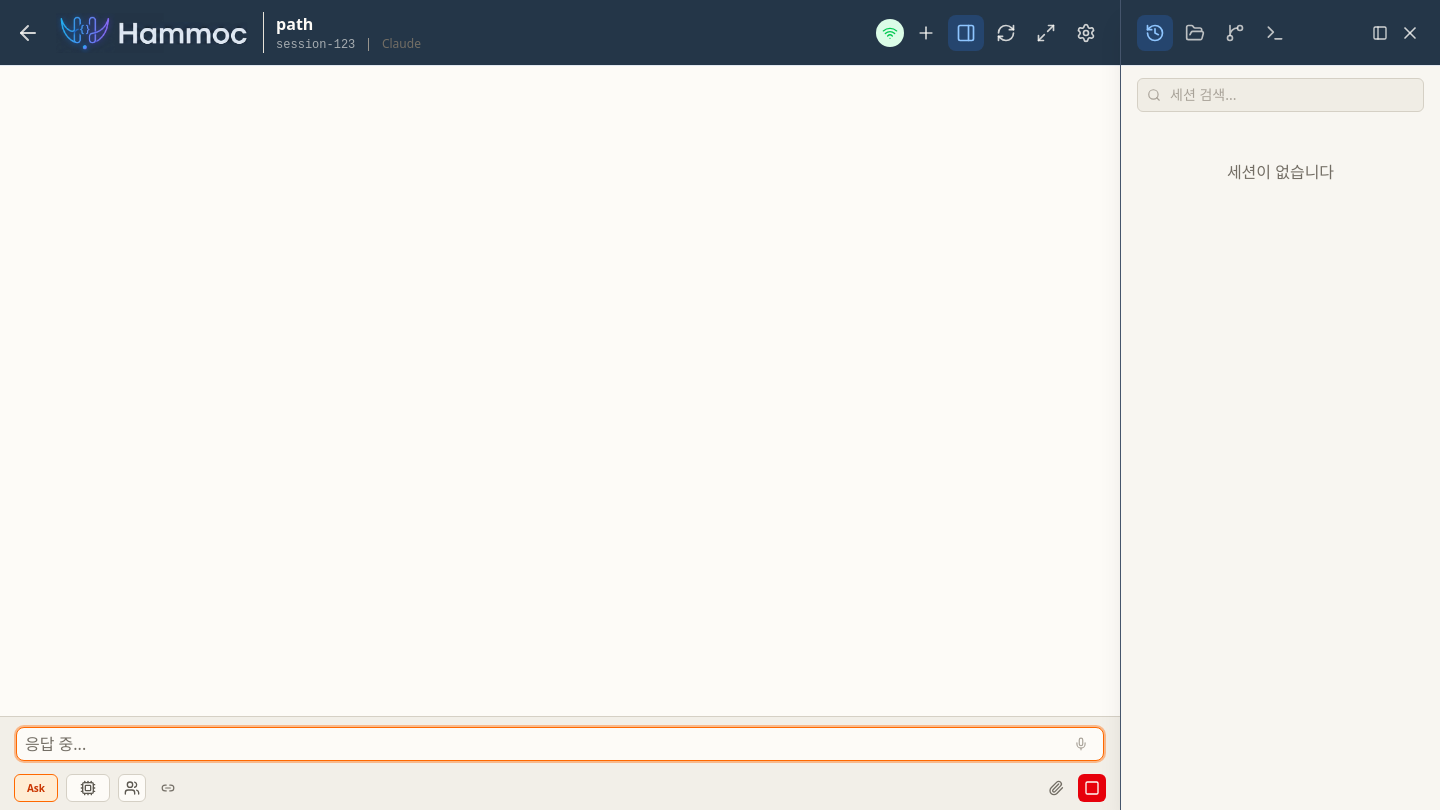
Scenario: ChatPage › Agent Quick Launch (Story 8.3) › should allow agent popup during streaming
The image size is (1440, 810).
// BmadAgentButton can be opened during streaming
Click the button with test id "bmad-agent-button" at (132, 788), box 118,774 -> 146,802
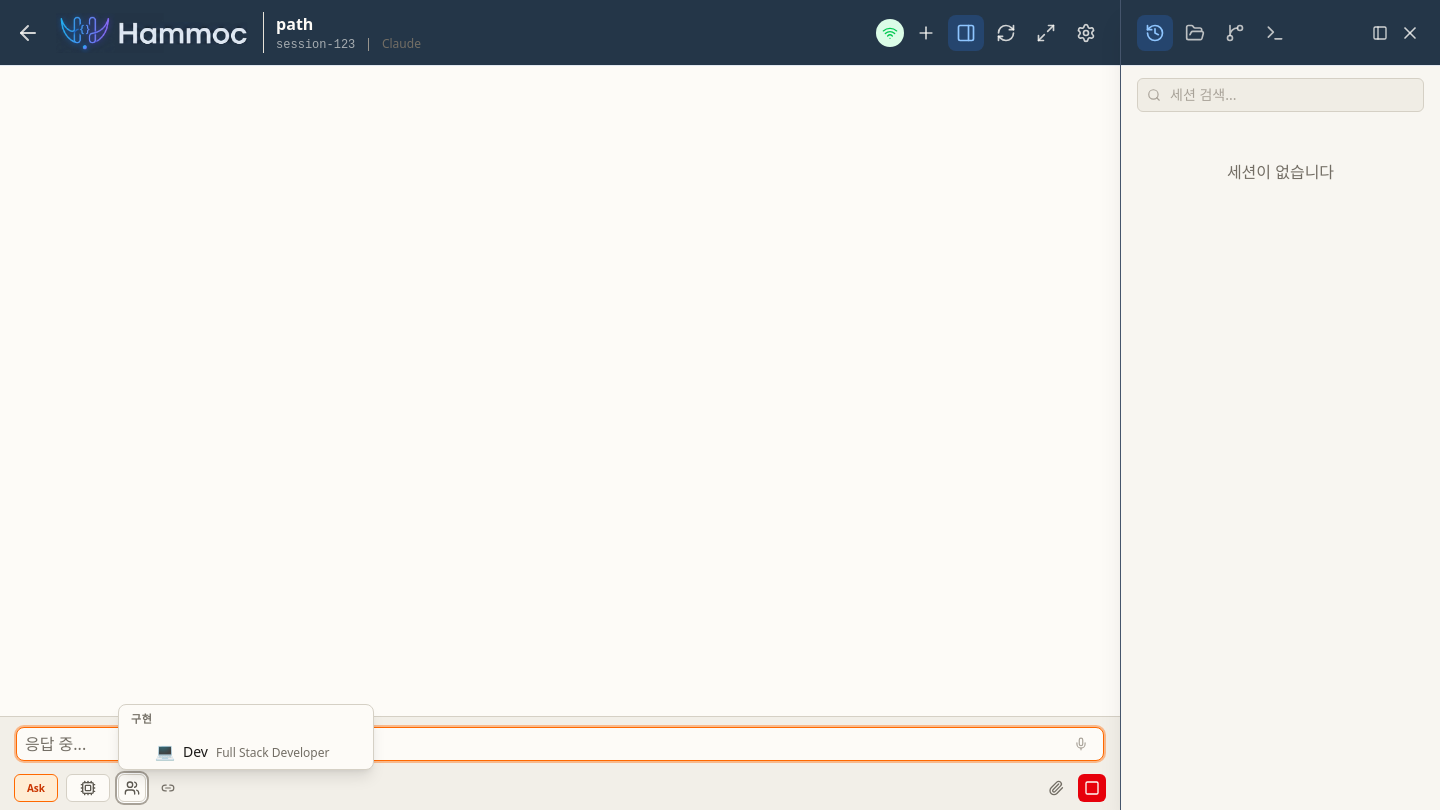
Expected: the option with test id "bmad-agent-item-0" is shown, 119,733 -> 373,769
